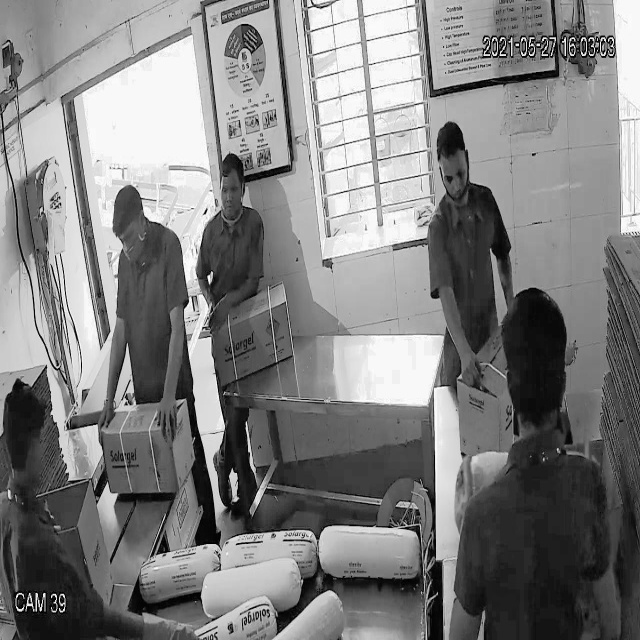Sin_gafas: (438, 163, 474, 193)
